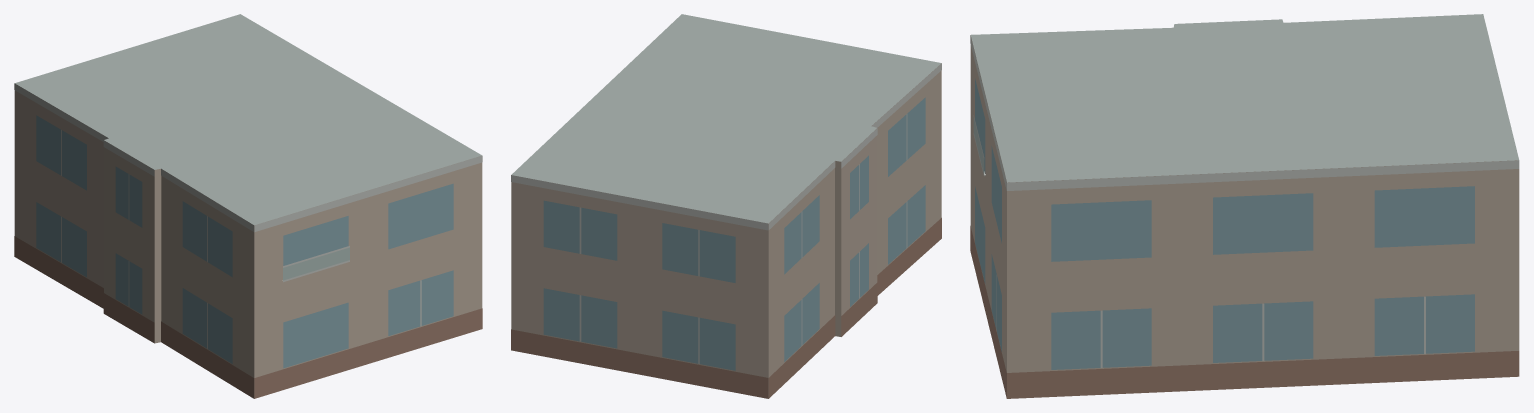
File: survey-upis-32625740.glb
3 views of the same model, side by side, from view 1: azimuth 30°, elevation 25°; view 2: azimuth 150°, elevation 25°; view 3: azimuth 270°, elevation 25° (orthographic). The views are drawn at different scales.
Visible parts, largest first — view 1: survey-upis-32625740.tmp; view 2: survey-upis-32625740.tmp; view 3: survey-upis-32625740.tmp.
Part boxes in pixels (x1,y1,x2,y2): survey-upis-32625740.tmp: [14, 14, 482, 398]; survey-upis-32625740.tmp: [511, 14, 941, 398]; survey-upis-32625740.tmp: [970, 14, 1519, 398].
Bounding box in the file's own units: 10.2 × 6.1 × 14.03.
